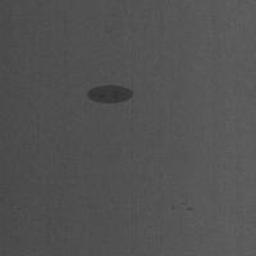Oil spot: (87, 83, 134, 105)
